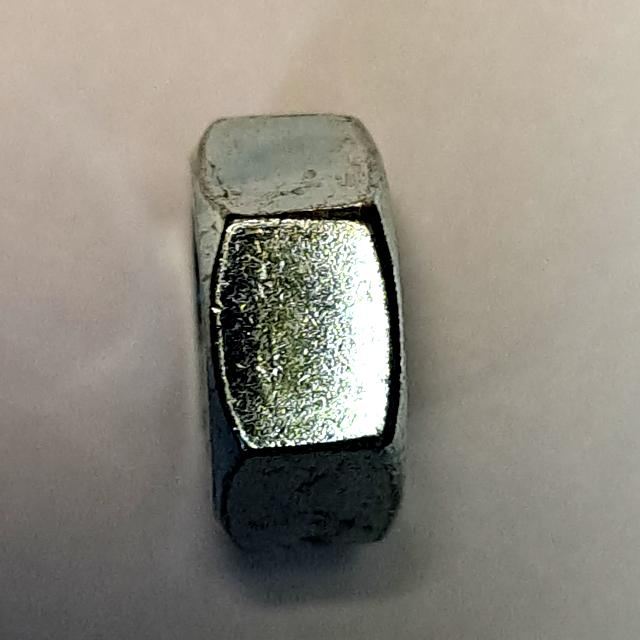Side_Excellent: (171, 93, 430, 581)
